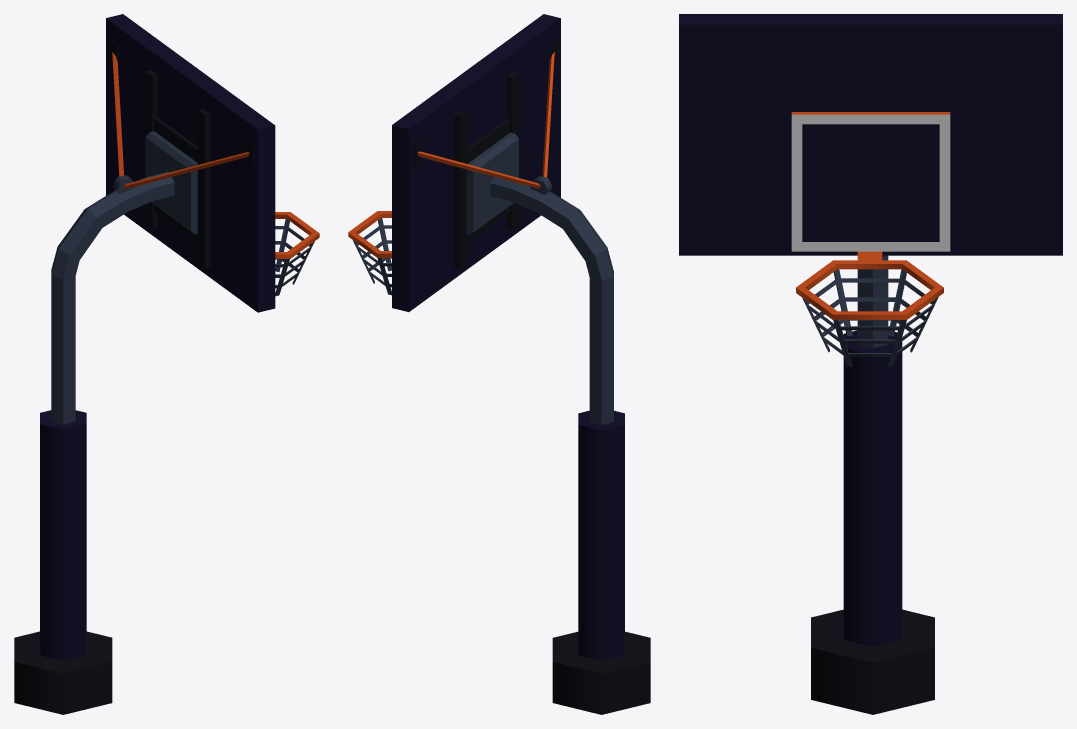
Rendered from BasketBallHook.FBX.
3 views of the same model, side by side, from view 1: azimuth 30°, elevation 25°; view 2: azimuth 150°, elevation 25°; view 3: azimuth 270°, elevation 25° (orthographic). The views are drawn at different scales.
Parts seen in each view (by area): view 1: basketball hoop; view 2: basketball hoop; view 3: basketball hoop.
Boxes of the visible parts, x1,y1,x2,y2 form: basketball hoop: [14, 14, 319, 714]; basketball hoop: [348, 14, 650, 714]; basketball hoop: [679, 14, 1062, 714].
Bounding box in the file's own units: 17.18 × 33.4 × 15.63.
